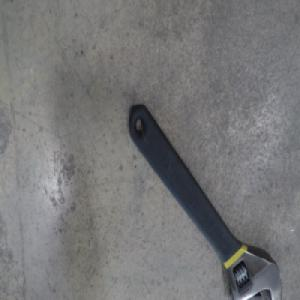AdjustableWrench: (127, 103, 281, 299)
